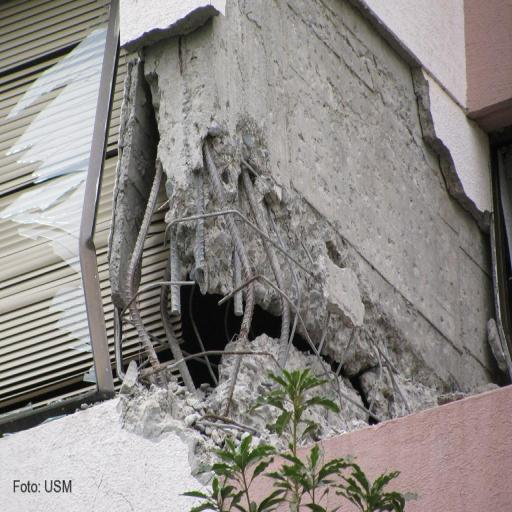spalling: (123, 110, 326, 417)
